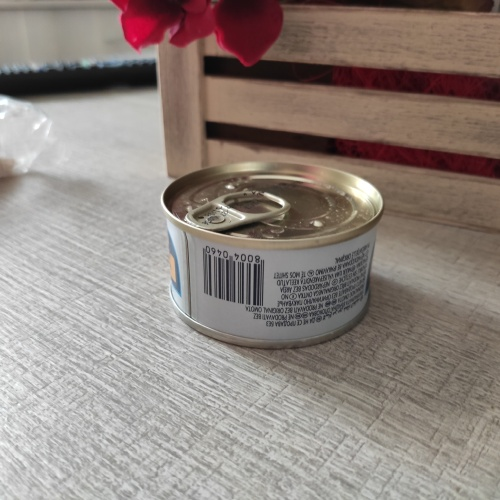tonno: (156, 150, 400, 355)
